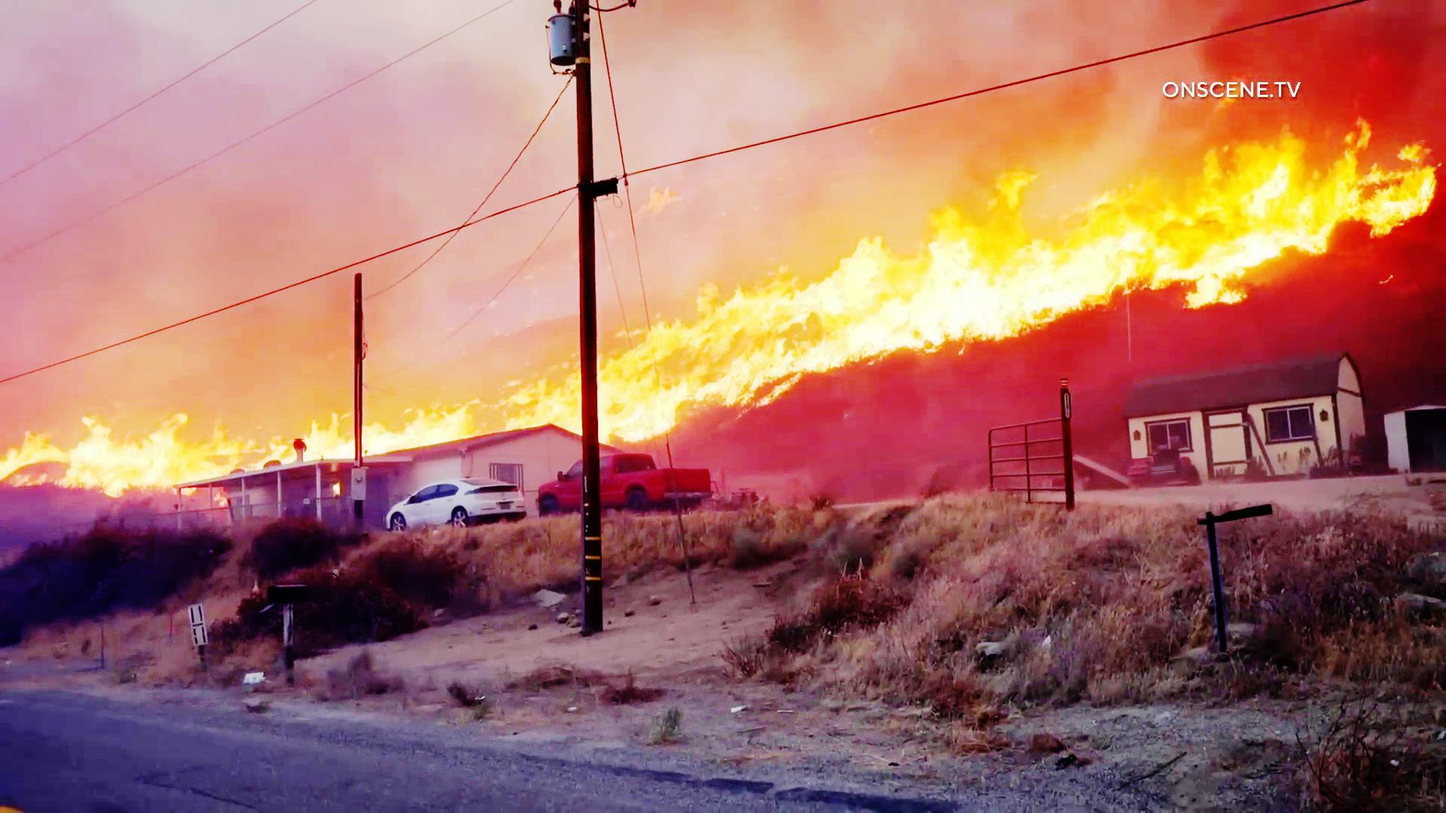fire: (606, 204, 1049, 435), (989, 115, 1443, 336)
